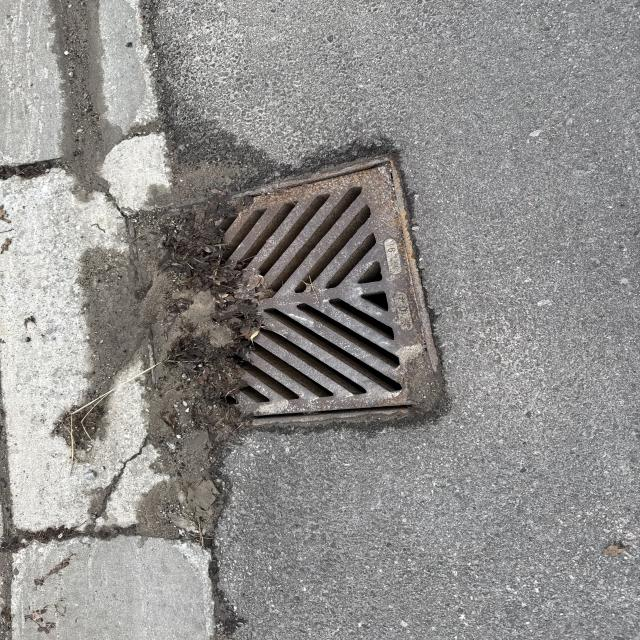Manhole: (180, 162, 445, 432)
